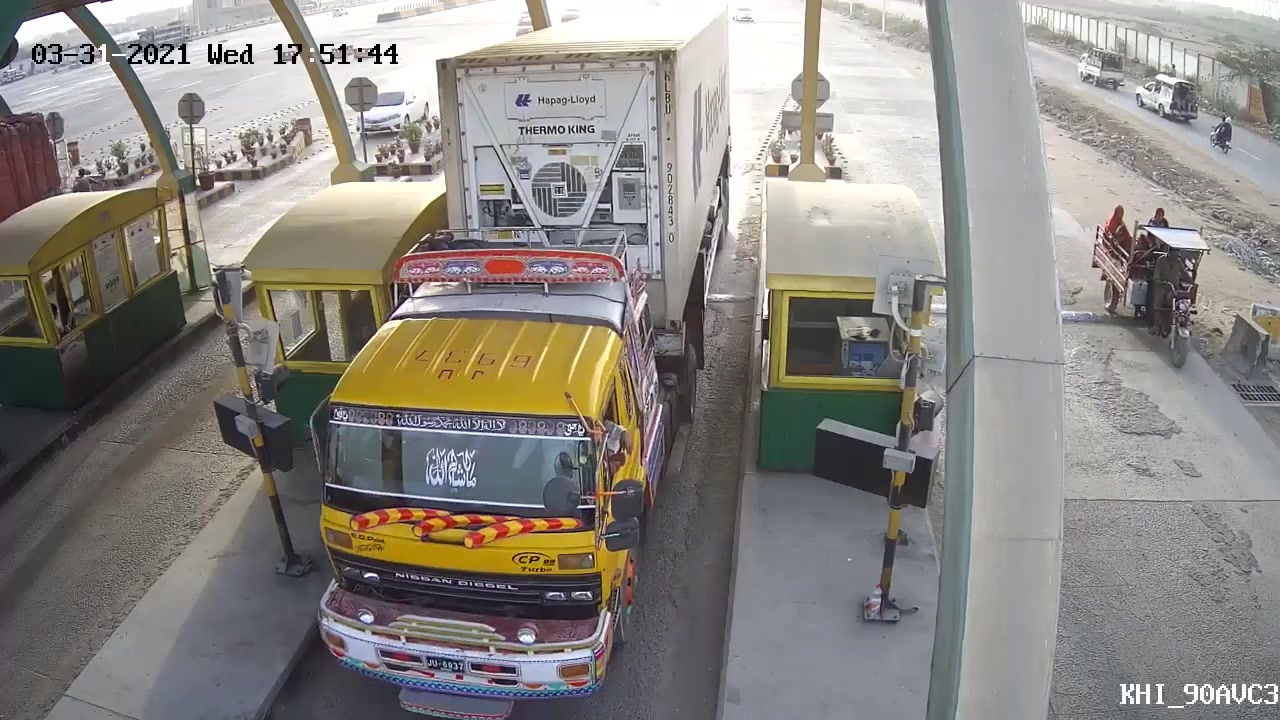F5: (301, 29, 717, 712)
